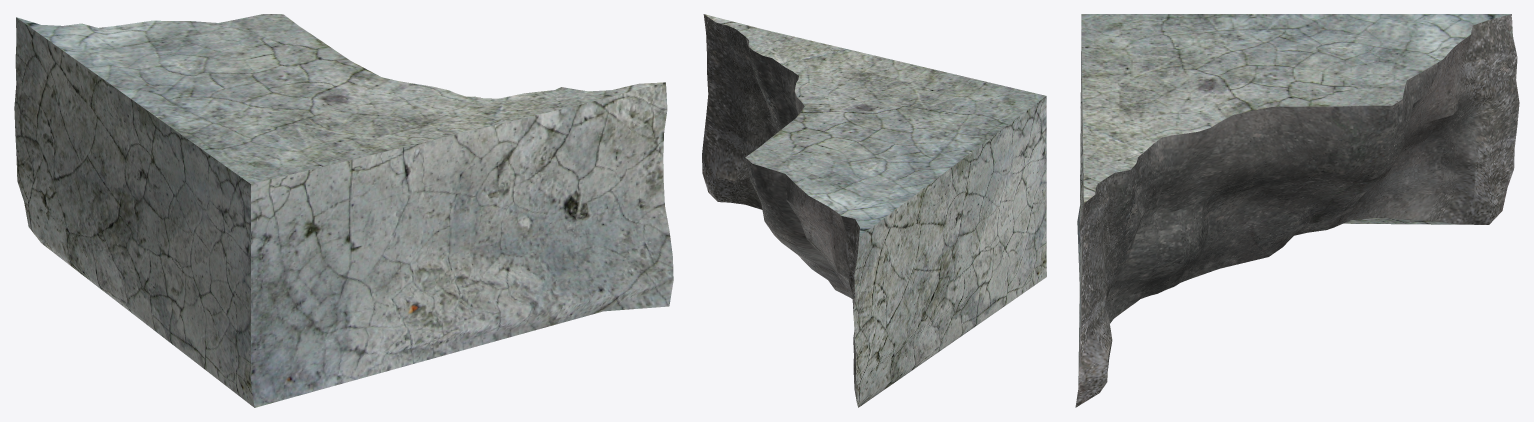
File: BrokenConcretePieceSloped1.fbx
3 views of the same model, side by side, from view 1: azimuth 30°, elevation 25°; view 2: azimuth 150°, elevation 25°; view 3: azimuth 270°, elevation 25° (orthographic). The views are drawn at different scales.
Visible parts, largest first — view 1: ConcreteBlockBrokenSlopedPiece1; view 2: ConcreteBlockBrokenSlopedPiece1; view 3: ConcreteBlockBrokenSlopedPiece1.
Part boxes in pixels (left/top/right/bottom): ConcreteBlockBrokenSlopedPiece1: left=14, top=14, right=673, bottom=407; ConcreteBlockBrokenSlopedPiece1: left=702, top=14, right=1046, bottom=407; ConcreteBlockBrokenSlopedPiece1: left=1075, top=14, right=1519, bottom=407.
Size of what is drawn, in the model's own units: 424 by 212 by 413.
